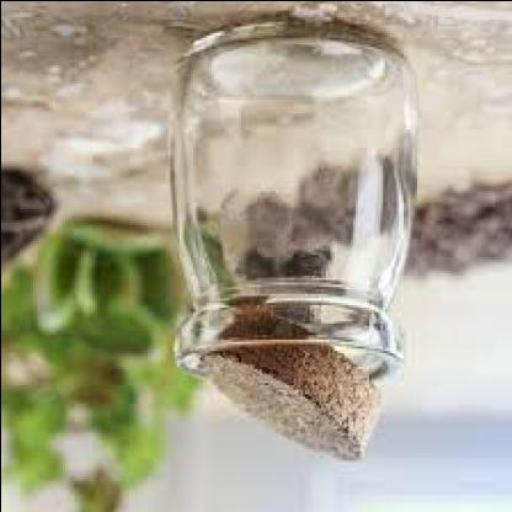glass: (166, 24, 412, 386)
